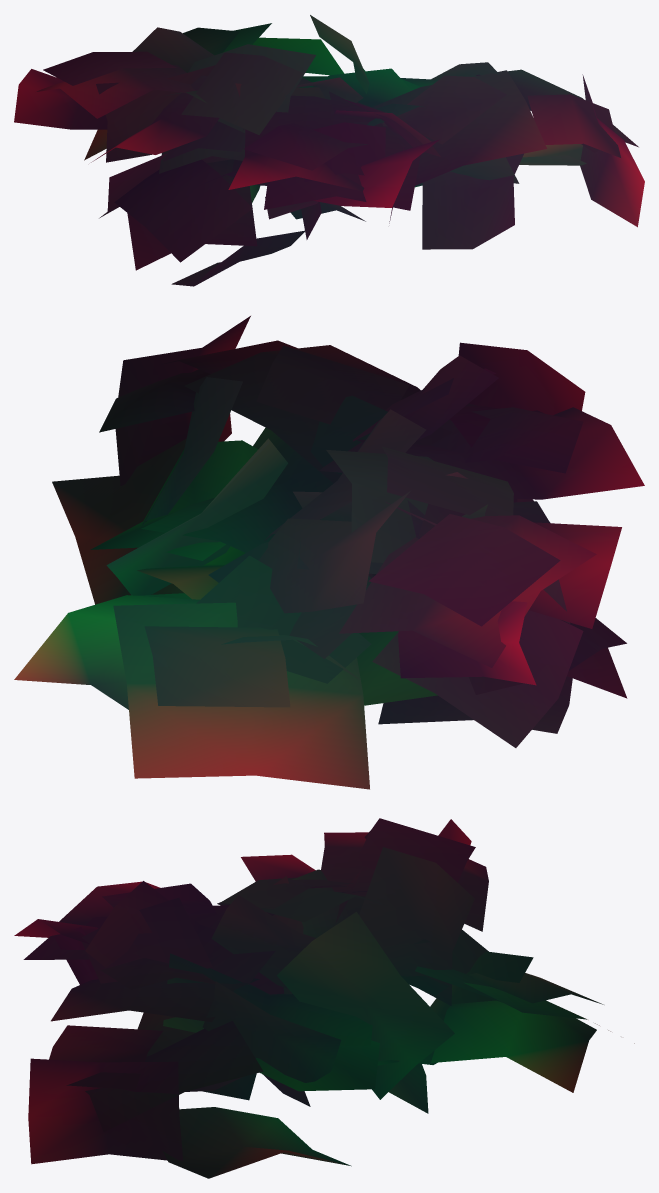
File: p_mesh_pine01_part08_pose0.fbx
3 views of the same model, one above another, from view 1: azimuth 30°, elevation 25°; view 2: azimuth 150°, elevation 25°; view 3: azimuth 270°, elevation 25° (orthographic). The views are drawn at different scales.
Visible parts, largest first — view 1: p_mesh_pine01_p08_pose0; view 2: p_mesh_pine01_p08_pose0; view 3: p_mesh_pine01_p08_pose0.
Boxes of the visible parts, x1,y1,x2,y2 form: p_mesh_pine01_p08_pose0: (14, 15, 644, 286); p_mesh_pine01_p08_pose0: (14, 316, 644, 789); p_mesh_pine01_p08_pose0: (14, 818, 634, 1178).
Size of the model in its own units: 48.49 by 20.61 by 51.35.
